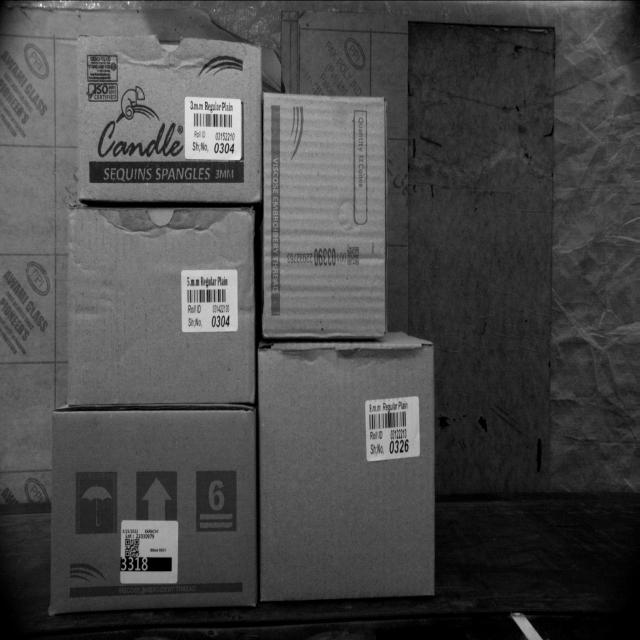cardboxes: (260, 348, 437, 596), (51, 410, 257, 612), (65, 201, 257, 407), (76, 38, 266, 200), (264, 95, 388, 336)
